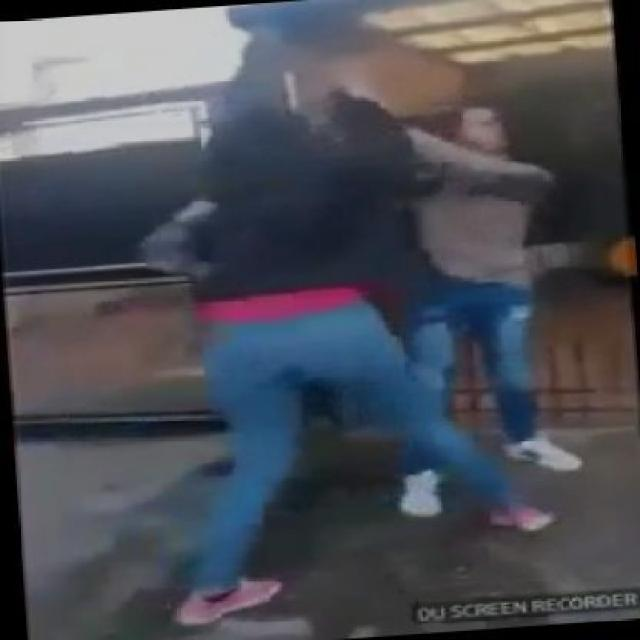fight: (155, 9, 582, 628)
